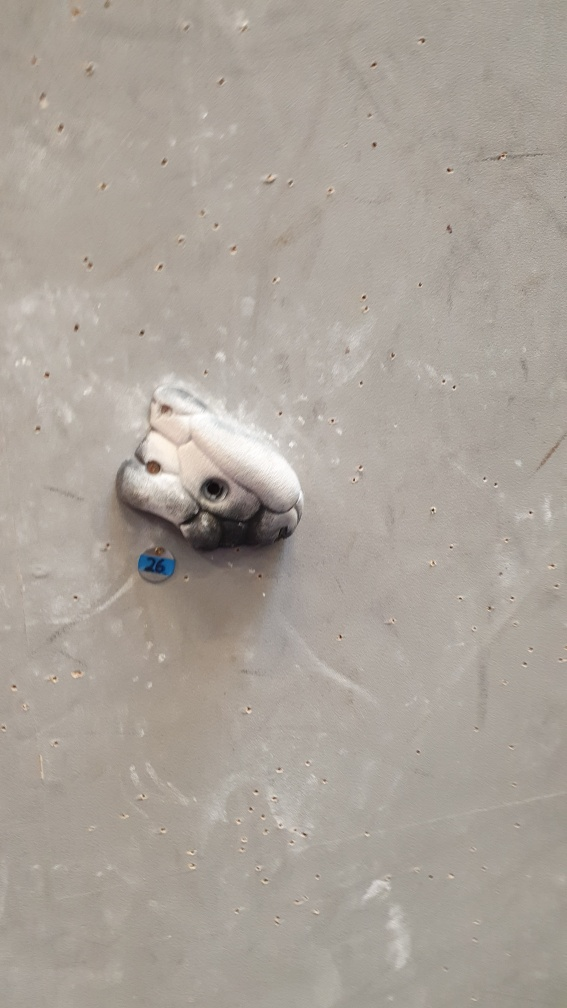Hand Start: (134, 543, 181, 585)
Jug: (113, 383, 304, 554)
